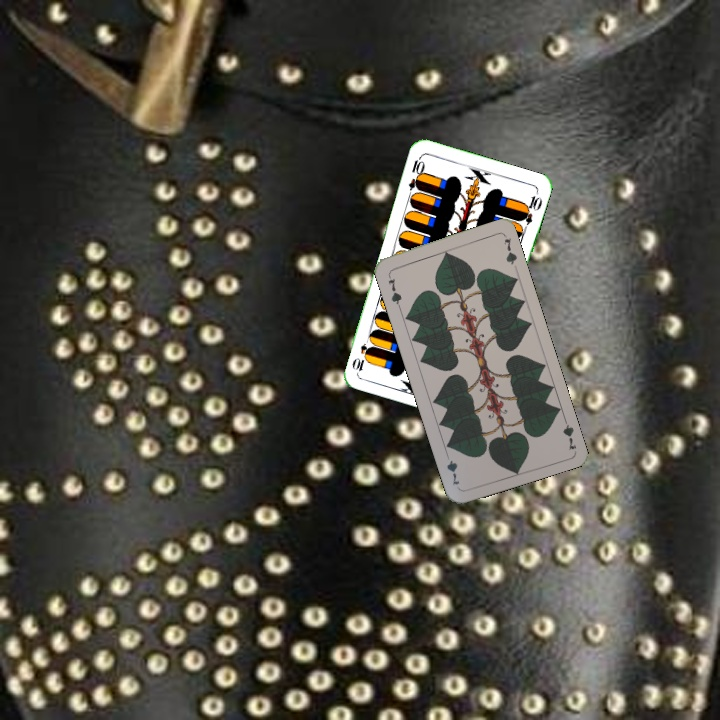E10: (404, 152, 427, 192)
G7: (559, 412, 579, 453), (384, 270, 404, 310)
